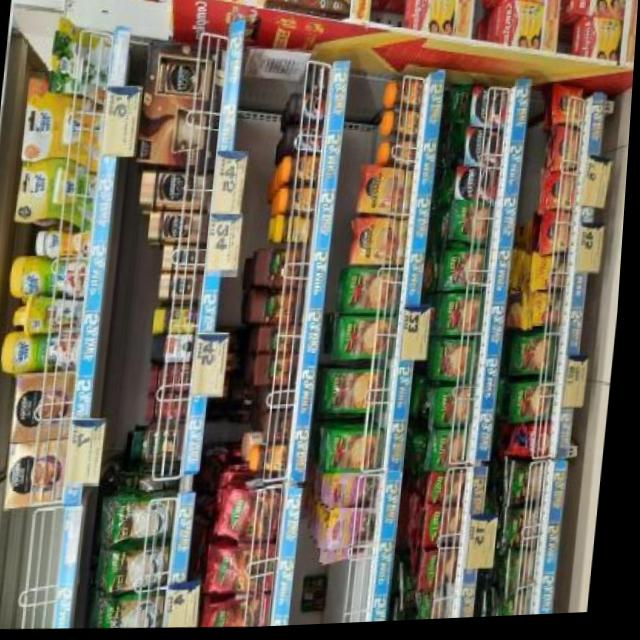Coffee: (142, 168, 217, 210), (354, 221, 411, 269), (361, 168, 415, 217), (151, 210, 212, 242), (472, 89, 511, 130), (457, 169, 502, 204), (466, 130, 505, 169), (161, 272, 206, 302), (280, 185, 320, 217), (290, 94, 329, 126), (288, 124, 326, 156), (284, 154, 323, 185), (546, 216, 576, 256), (255, 445, 295, 475), (554, 91, 587, 127), (549, 176, 579, 214), (166, 245, 209, 271), (554, 133, 581, 173), (390, 81, 424, 111), (387, 110, 421, 140), (384, 141, 419, 170), (306, 67, 330, 97)
